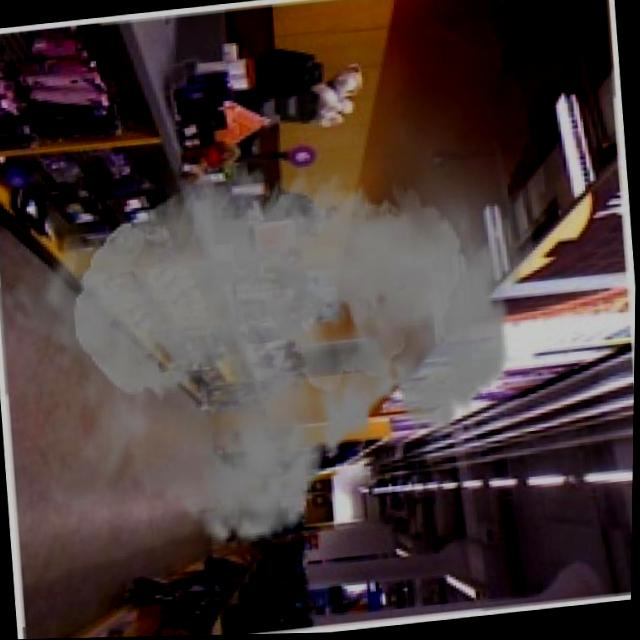Smoke: (0, 0, 571, 589)
